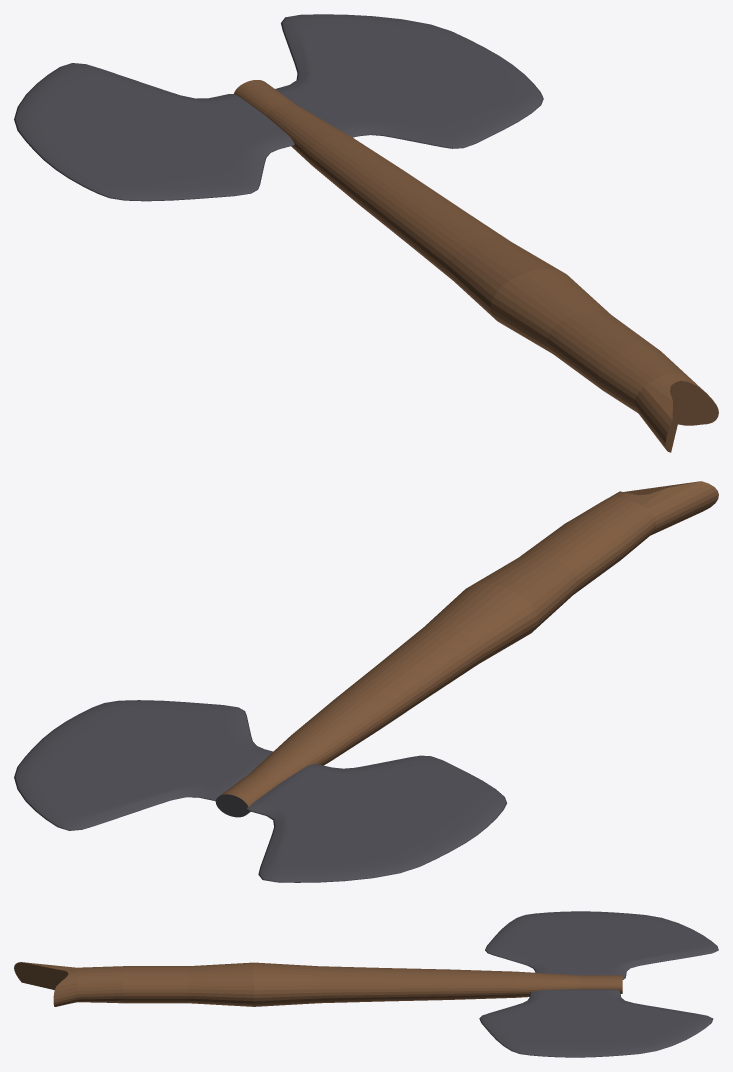
File: battleAxe.fbx
3 views of the same model, one above another, from view 1: azimuth 30°, elevation 25°; view 2: azimuth 150°, elevation 25°; view 3: azimuth 270°, elevation 25° (orthographic). The views are drawn at different scales.
Visible parts, largest first — view 1: BladeRight; view 2: BladeRight; view 3: BladeRight.
Boxes of the visible parts, bbox=[...] form: BladeRight: bbox=[14, 14, 718, 452]; BladeRight: bbox=[14, 481, 718, 882]; BladeRight: bbox=[14, 911, 718, 1057].
Size of the model in its own units: 39.69 by 4.54 by 81.69.
1 material, 1 textured.
